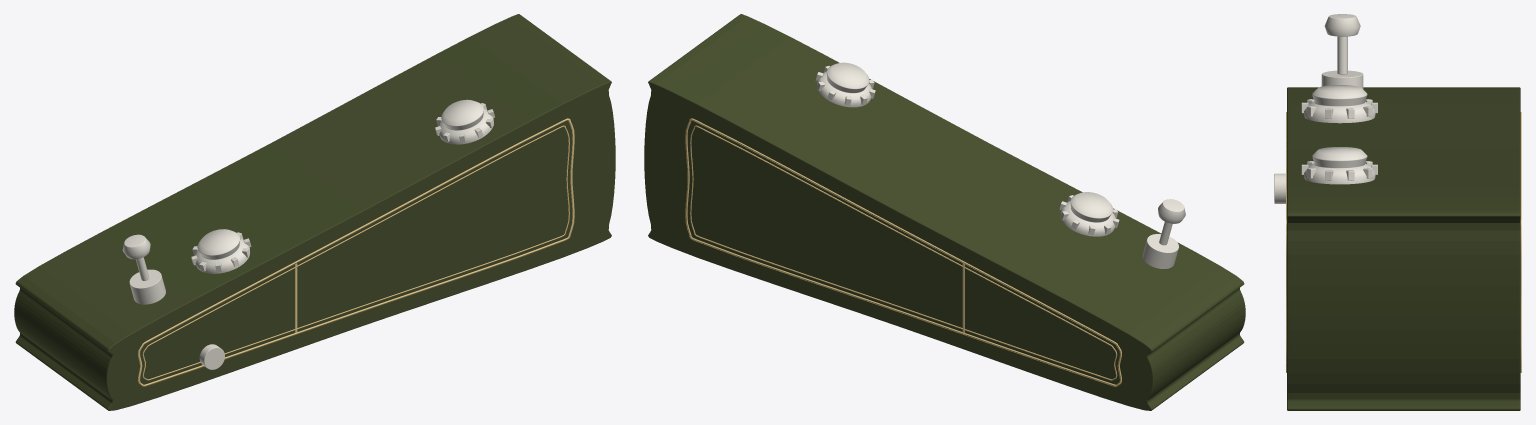
The model's file is bike_vintage_vtwin__fuel_tank.glb.
The picture shows the model from 3 angles, left to right: view 1: azimuth 30°, elevation 25°; view 2: azimuth 150°, elevation 25°; view 3: azimuth 270°, elevation 25°; orthographic projection. The views are drawn at different scales.
Visible parts, largest first — view 1: frame_body__fuel_tank, frame_body__fuel_tank__pinstripes, frame_body__fuel_tank__filler_caps, frame_body__fuel_tank__oil_pump; view 2: frame_body__fuel_tank, frame_body__fuel_tank__pinstripes, frame_body__fuel_tank__filler_caps, frame_body__fuel_tank__oil_pump; view 3: frame_body__fuel_tank, frame_body__fuel_tank__filler_caps, frame_body__fuel_tank__oil_pump, frame_body__fuel_tank__pinstripes.
Part boxes in pixels (x1,y1,x2,y2): frame_body__fuel_tank: (14, 14, 615, 410); frame_body__fuel_tank__pinstripes: (138, 118, 574, 386); frame_body__fuel_tank__filler_caps: (191, 99, 494, 273); frame_body__fuel_tank__oil_pump: (122, 234, 224, 369); frame_body__fuel_tank: (644, 14, 1245, 410); frame_body__fuel_tank__pinstripes: (685, 118, 1121, 386); frame_body__fuel_tank__filler_caps: (815, 62, 1119, 236); frame_body__fuel_tank__oil_pump: (1142, 199, 1185, 268); frame_body__fuel_tank: (1287, 87, 1520, 410); frame_body__fuel_tank__filler_caps: (1301, 85, 1377, 184); frame_body__fuel_tank__oil_pump: (1274, 14, 1363, 203); frame_body__fuel_tank__pinstripes: (1286, 112, 1521, 372).
Size of the model in its own units: 53.3 by 20.82 by 17.76.
